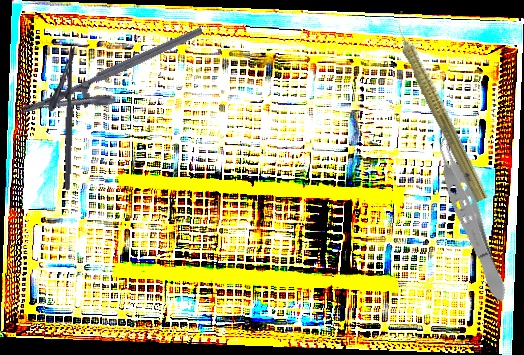Handpiece: (383, 8, 496, 205)
Needle Holder: (18, 26, 215, 140), (44, 44, 77, 190)
Tissue Forceps: (425, 123, 517, 307)
